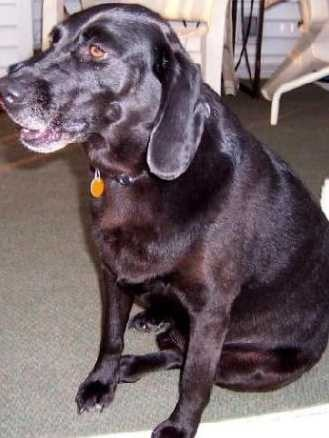dog: (0, 1, 329, 408)
